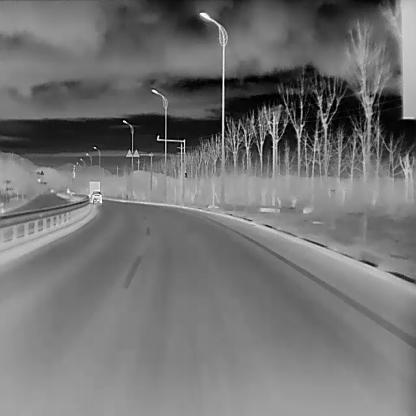car: (88, 181, 100, 198), (90, 190, 102, 203)
